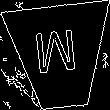M_S: (36, 29, 84, 84)
